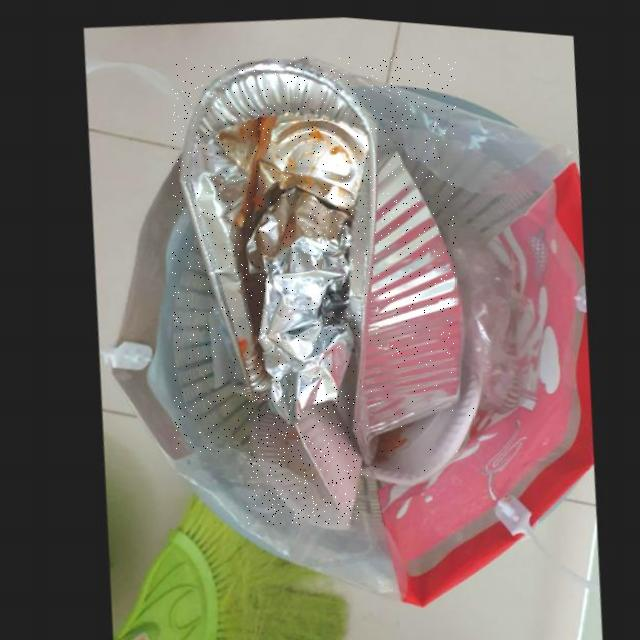metal: (173, 57, 456, 451), (240, 183, 349, 418)
paper: (357, 354, 474, 479), (248, 395, 359, 524)
